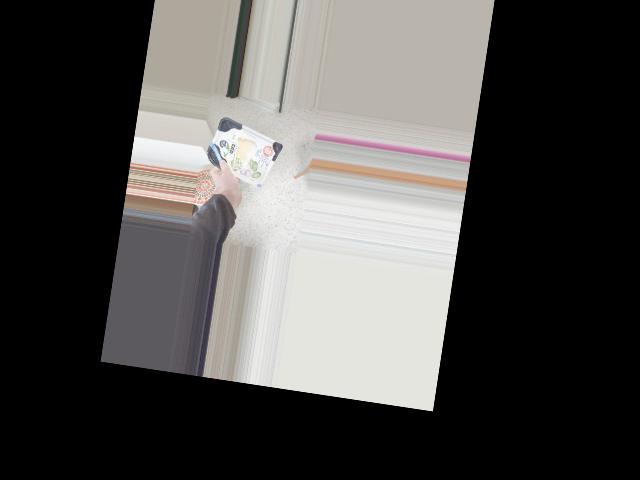cheese: (202, 114, 285, 189)
